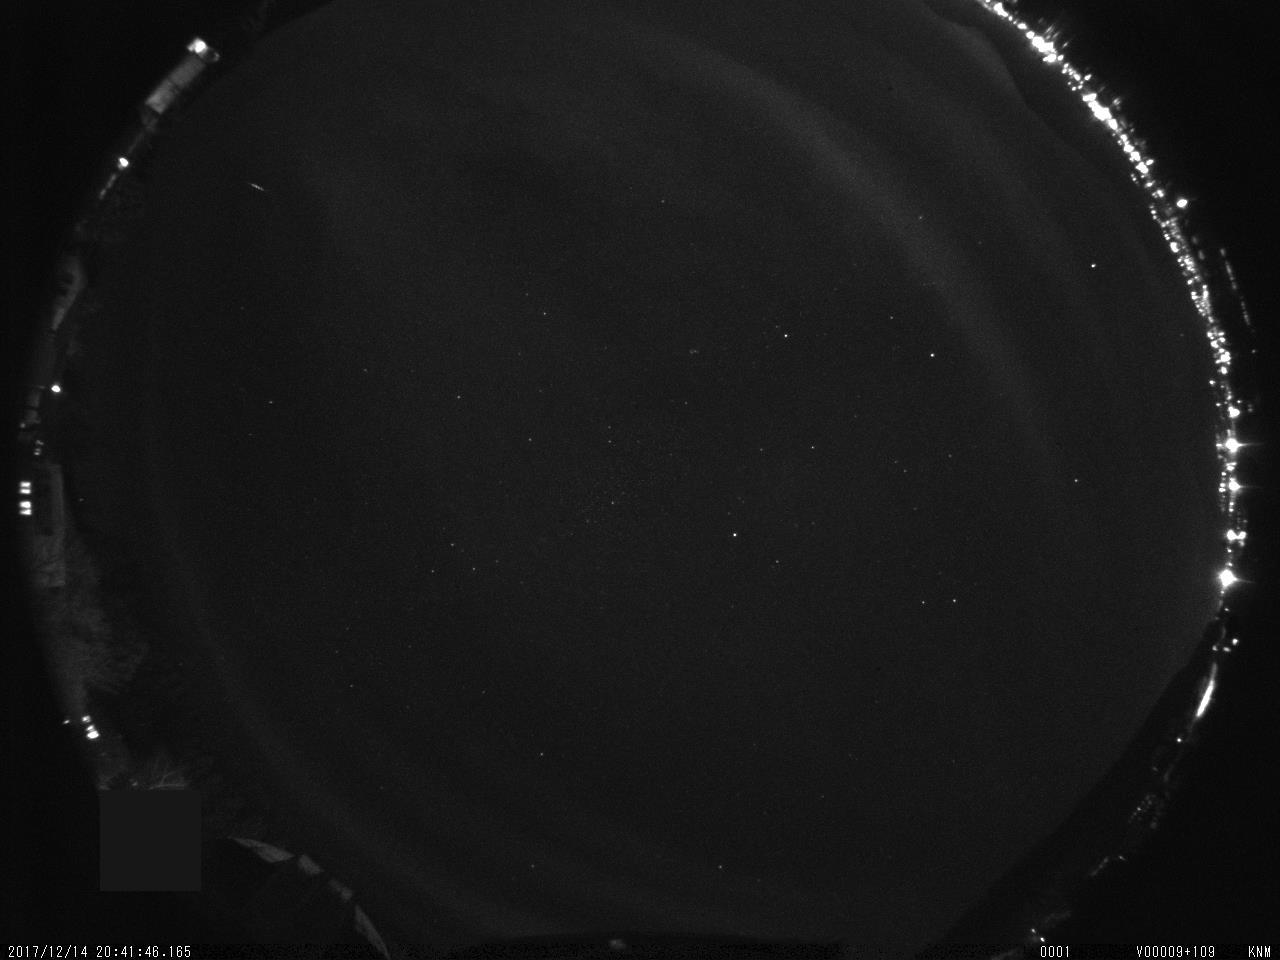meteor: (240, 175, 277, 195)
